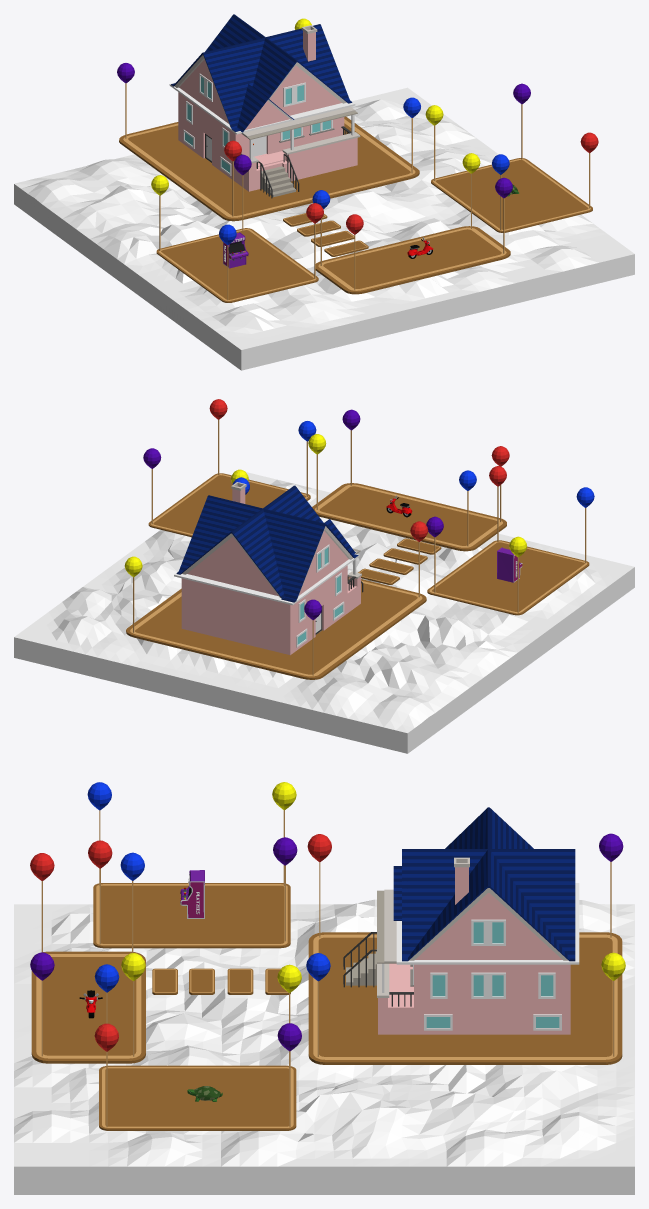
The picture shows the model from 3 angles, top to bottom: view 1: azimuth 30°, elevation 25°; view 2: azimuth 150°, elevation 25°; view 3: azimuth 270°, elevation 25°; orthographic projection. The views are drawn at different scales.
Visible parts, largest first — view 1: Cube.013, Cube.313, OBJRANDOM_ARCADE; view 2: Cube.013, Cube.313, OBJRANDOM_ARCADE; view 3: Cube.013, Cube.313, OBJRANDOM_ARCADE.
Boxes of the visible parts, x1,y1,x2,y2 form: Cube.013: [14, 18, 634, 370]; Cube.313: [169, 14, 360, 198]; OBJRANDOM_ARCADE: [223, 232, 248, 268]; Cube.013: [14, 399, 634, 753]; Cube.313: [174, 482, 363, 655]; OBJRANDOM_ARCADE: [497, 547, 522, 582]; Cube.013: [14, 782, 634, 1194]; Cube.313: [343, 807, 579, 1034]; OBJRANDOM_ARCADE: [180, 870, 204, 918].
Bounding box in the file's own units: 4000 × 1840 × 4000.
43 materials, 1 textured.
